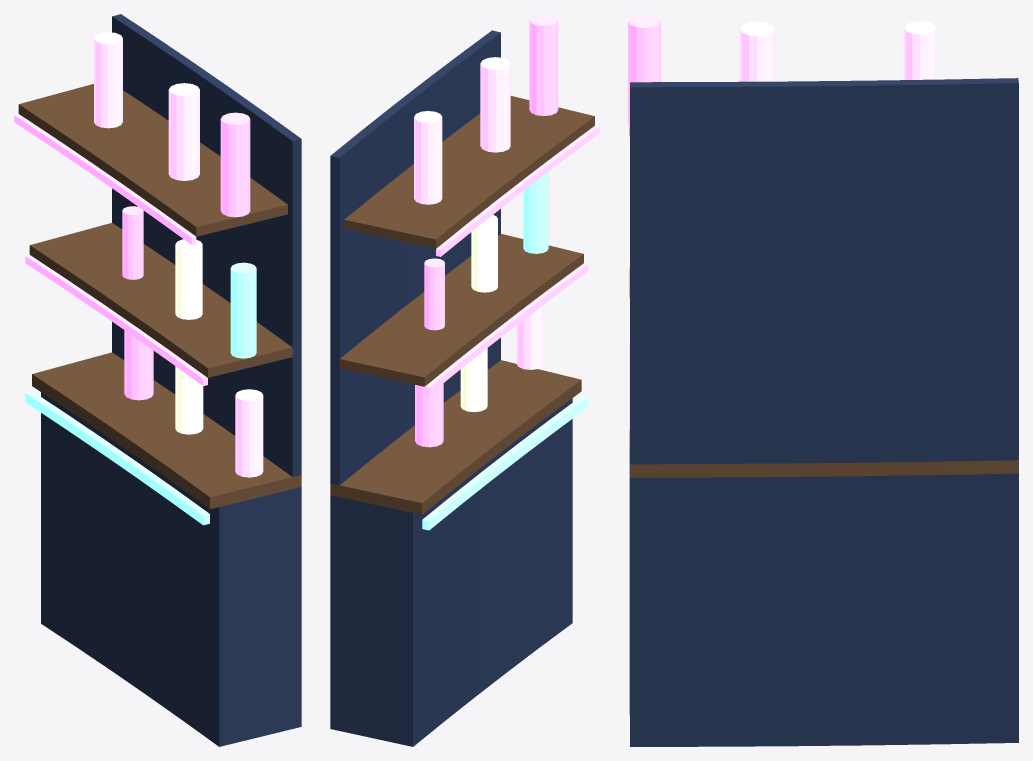
The model's file is space_bar_leafr.glb.
3 views of the same model, side by side, from view 1: azimuth 30°, elevation 25°; view 2: azimuth 150°, elevation 25°; view 3: azimuth 270°, elevation 25° (orthographic). The views are drawn at different scales.
Parts seen in each view (by area): view 1: LeafR_Cabinet, LeafR_BackPanel, LeafR_CabinetTop, LeafR_Shelf1, LeafR_Shelf0, LeafR_Bottle2_0.003, LeafR_Bottle2_0.017, LeafR_CabinetNeon, LeafR_Bottle2_0.037, LeafR_Bottle1_0.003, LeafR_Bottle0_0.003, LeafR_ShelfGlow0 (+5 smaller); view 2: LeafR_Cabinet, LeafR_BackPanel, LeafR_CabinetTop, LeafR_Shelf1, LeafR_Shelf0, LeafR_Bottle2_0.003, LeafR_Bottle2_0.017, LeafR_CabinetNeon, LeafR_Bottle2_0.037, LeafR_ShelfGlow0, LeafR_ShelfGlow1, LeafR_Bottle1_0.018 (+5 smaller); view 3: LeafR_BackPanel, LeafR_Cabinet, LeafR_CabinetTop, LeafR_Bottle2_0.003, LeafR_Bottle2_0.017, LeafR_Bottle2_0.037.
Part boxes in pixels (box(x1,y1,x2,y2)): LeafR_Cabinet: box(41, 392, 301, 746); LeafR_BackPanel: box(112, 14, 301, 476); LeafR_CabinetTop: box(32, 352, 301, 509); LeafR_Shelf1: box(18, 84, 287, 236); LeafR_Shelf0: box(29, 223, 292, 377); LeafR_Bottle2_0.003: box(220, 112, 250, 217); LeafR_Bottle2_0.017: box(168, 83, 199, 180); LeafR_CabinetNeon: box(25, 391, 209, 525); LeafR_Bottle2_0.037: box(94, 32, 122, 128); LeafR_Bottle1_0.003: box(230, 262, 256, 358); LeafR_Bottle0_0.003: box(235, 389, 263, 477); LeafR_ShelfGlow0: box(25, 255, 207, 386); LeafR_Cabinet: box(330, 398, 572, 746); LeafR_BackPanel: box(330, 30, 500, 485); LeafR_CabinetTop: box(330, 360, 581, 514); LeafR_Shelf1: box(344, 96, 594, 248); LeafR_Shelf0: box(339, 234, 583, 386); LeafR_Bottle2_0.003: box(529, 14, 558, 115); LeafR_Bottle2_0.017: box(480, 57, 510, 152); LeafR_CabinetNeon: box(422, 396, 588, 530); LeafR_Bottle2_0.037: box(414, 111, 442, 204); LeafR_ShelfGlow0: box(424, 263, 588, 394); LeafR_ShelfGlow1: box(436, 125, 599, 256); LeafR_Bottle1_0.018: box(471, 215, 497, 292); LeafR_BackPanel: box(630, 78, 1018, 464); LeafR_Cabinet: box(629, 446, 1018, 746); LeafR_CabinetTop: box(629, 430, 1018, 477); LeafR_Bottle2_0.003: box(628, 14, 661, 126); LeafR_Bottle2_0.017: box(740, 21, 774, 81); LeafR_Bottle2_0.037: box(904, 21, 936, 79).
Bounding box in the file's own units: 0.5121 × 2.57 × 1.32.
